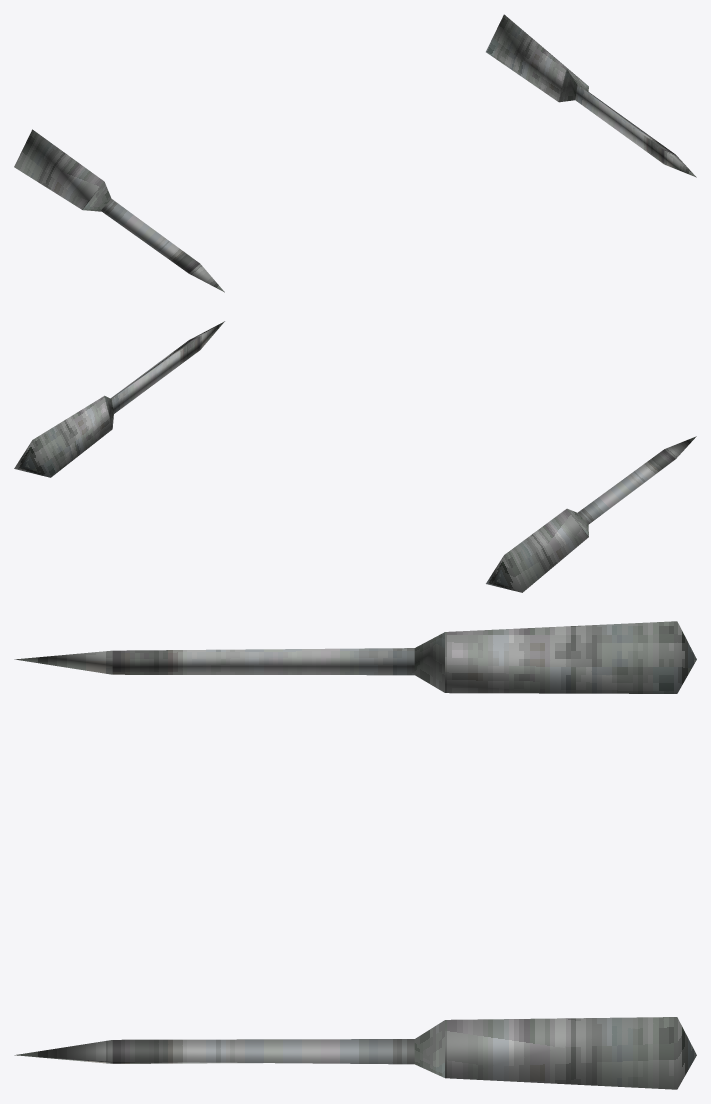
The model's file is black_sun_fighter_heavy_weapon3_s05_l3.fbx.
3 views of the same model, one above another, from view 1: azimuth 30°, elevation 25°; view 2: azimuth 150°, elevation 25°; view 3: azimuth 270°, elevation 25° (orthographic). The views are drawn at different scales.
Parts seen in each view (by area): view 1: mesh_node; view 2: mesh_node; view 3: mesh_node.
Boxes of the visible parts, box(x1,y1,x2,y2) form: mesh_node: box(14, 14, 696, 292); mesh_node: box(14, 321, 696, 592); mesh_node: box(14, 621, 696, 1089).
Size of the model in its own units: 12.9 by 0.8627 by 8.72.
Materials: 1 (1 with a texture image).
